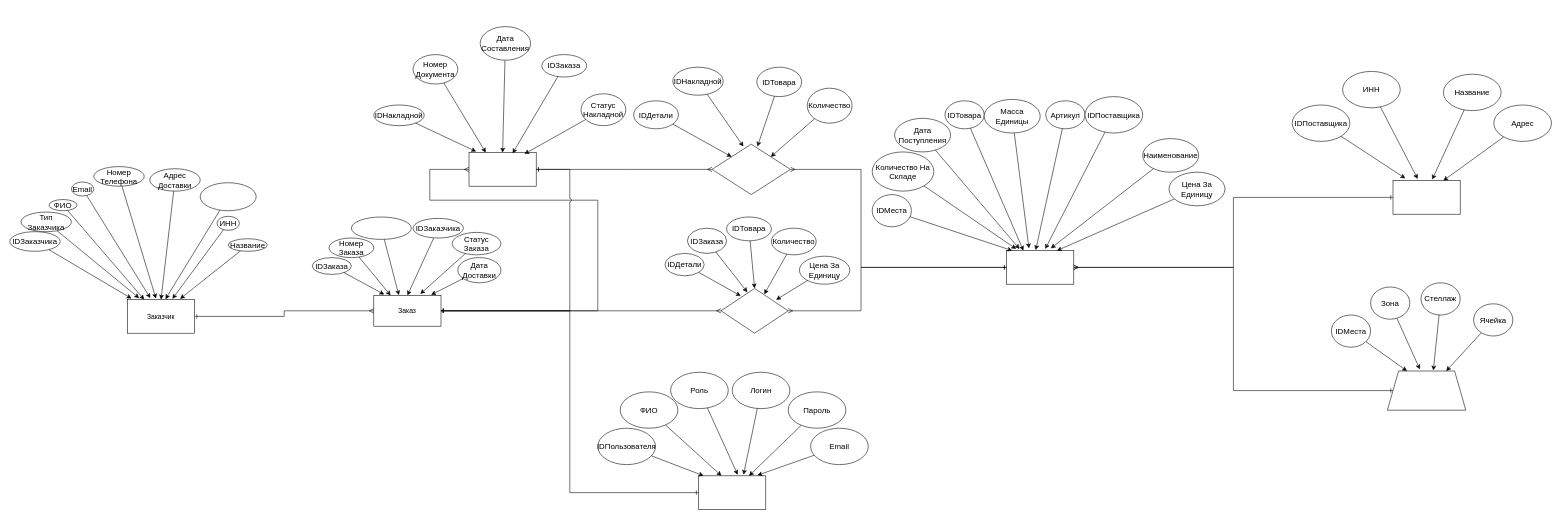
Image size: 1561x519. Some labels were removed from this diagram. The shapes that lost their labels are listed below. From the top down, each one's centre as x and y in pixels, then its label:
At point (502, 169): "Накладная".
At point (750, 169): "Детали_Накладной".
At point (228, 196): "Серия Номер Паспорта".
At point (1426, 197): "Поставщик".
At point (381, 227): "Дата Оформления".
At point (1040, 267): "Товар".
At point (754, 310): "Детали_Заказа".
At point (1426, 390): "Место_Хранения".
At point (732, 492): "Пользователь".
